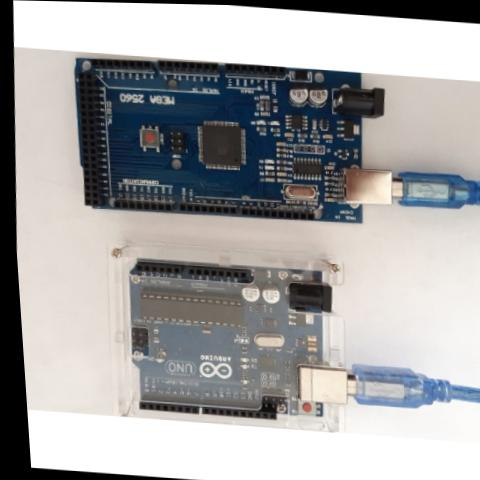Arduino-Mega: (45, 49, 394, 235)
